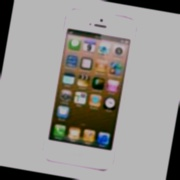iphone: (53, 11, 127, 168)
